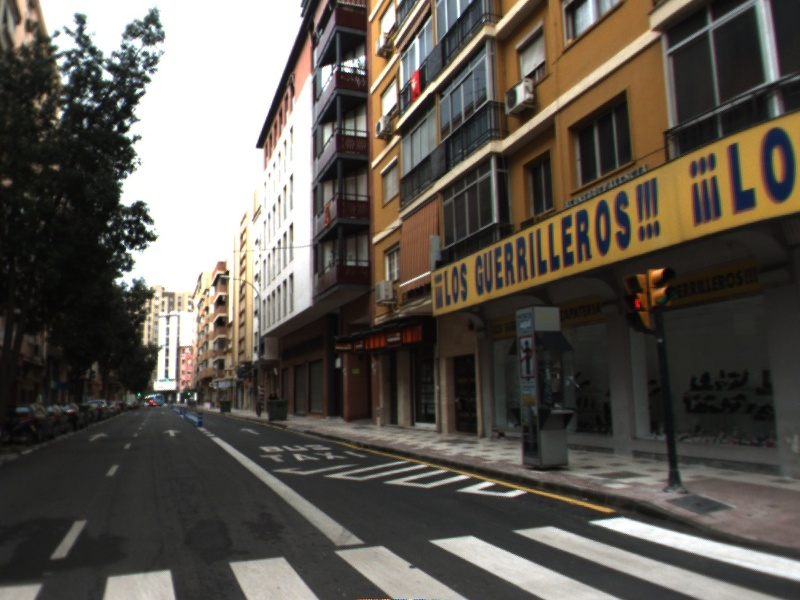STRAIGHT: (85, 430, 111, 444), (238, 425, 262, 437), (160, 427, 184, 438)
